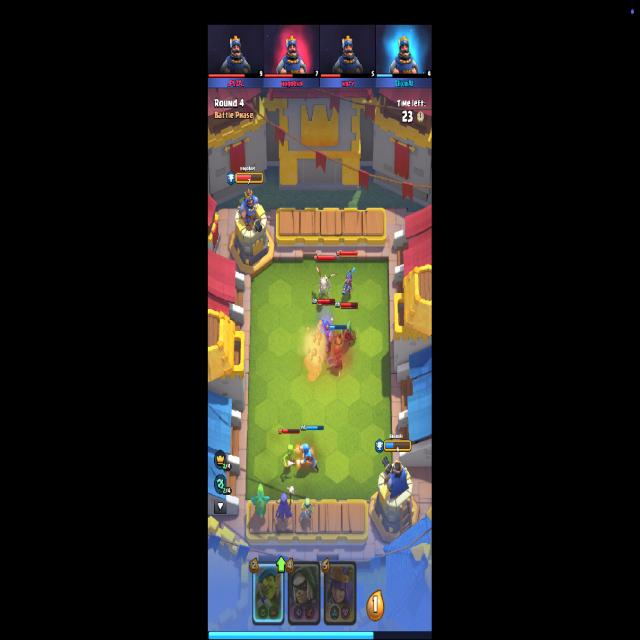baby_dragon: (250, 484, 270, 519)
bandit: (341, 318, 357, 349)
card_archer_queen: (322, 559, 358, 627)
card_bandit: (287, 560, 322, 625)
card_spear_goblin: (252, 560, 285, 626)
goblin: (283, 445, 297, 469)
mega_knight: (317, 318, 332, 347)
musketeer: (341, 266, 356, 298)
skeleton_dragon: (316, 267, 334, 300)
spear_goblin: (299, 498, 316, 524)
valkyrie: (329, 343, 344, 373)
witch: (275, 486, 296, 523)
wizard: (297, 443, 320, 474)
